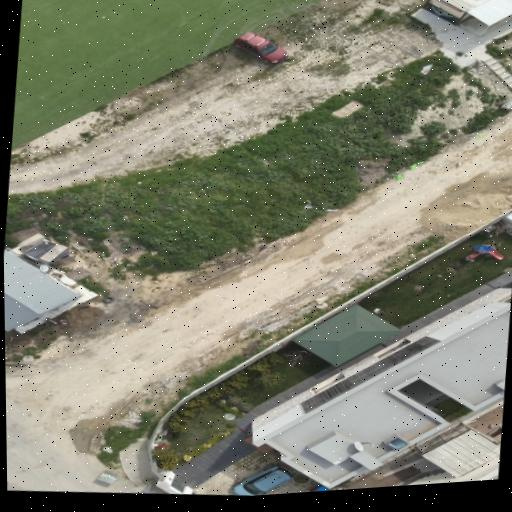car: (234, 32, 288, 63), (233, 467, 291, 495)
